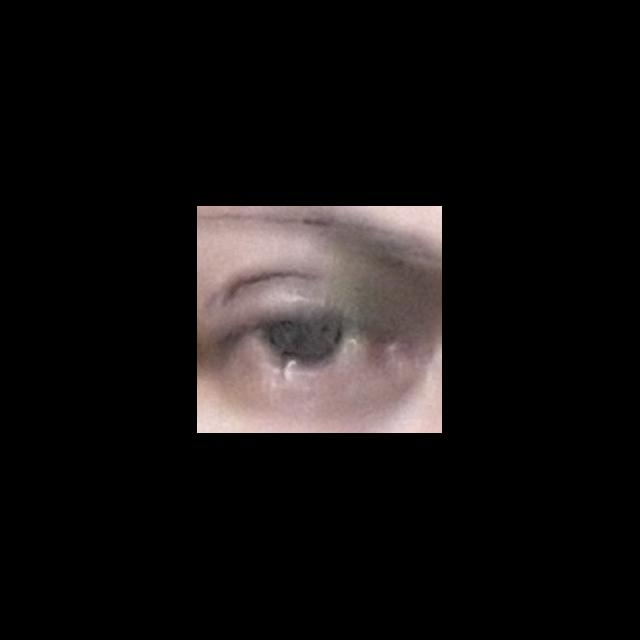eye: (263, 319, 365, 363)
iris: (276, 319, 340, 362)
